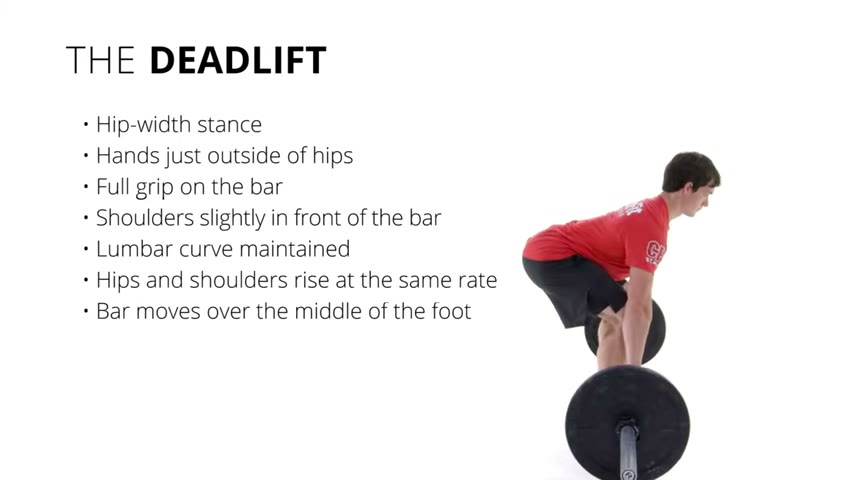barbell_plate_side: (654, 347, 694, 475), (563, 357, 600, 477)
